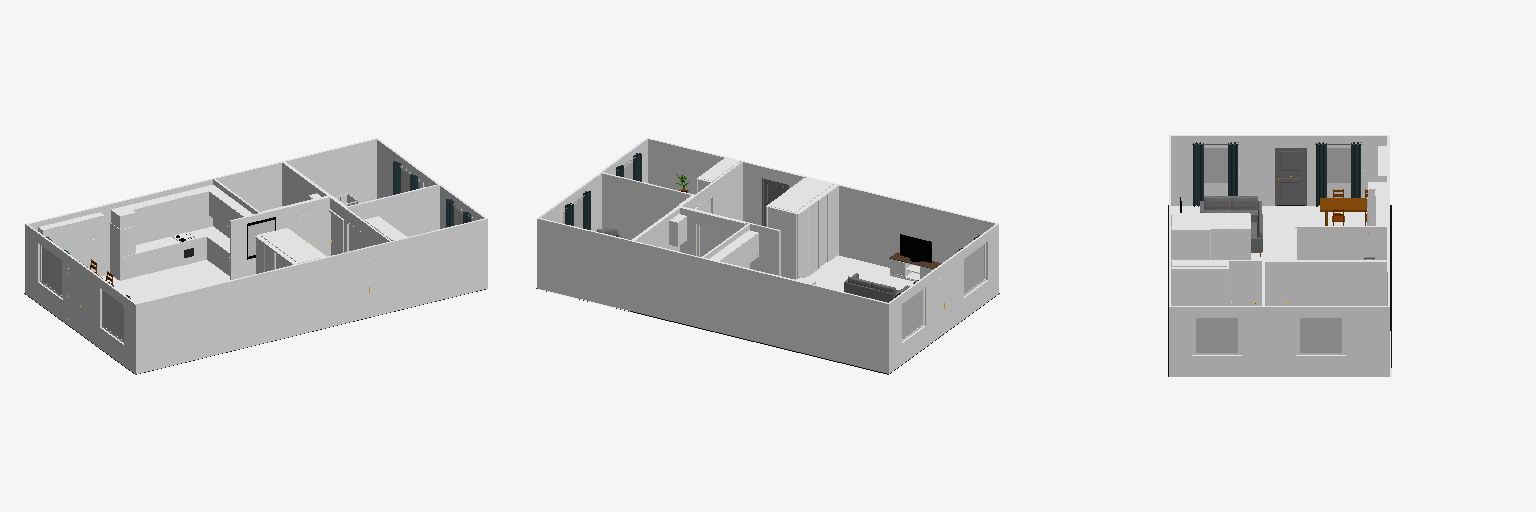
File: home.obj
3 views of the same model, side by side, from view 1: azimuth 30°, elevation 25°; view 2: azimuth 150°, elevation 25°; view 3: azimuth 270°, elevation 25° (orthographic).
Parts seen in each view (by area): view 1: wall_13_76, wall_10_58, wall_14_82, wall_6_35, wall_15_89, wall_17_100, wall_12_71, room_31_162, wall_4_23, Corps_578, wall_2_10, sweethome3d_opening_on_hinge_1_door_217 (+11 smaller); view 2: wall_15_88, wall_13_77, wall_6_34, wall_4_22, wall_14_82, wall_12_70, wall_10_59, room_31_162, wall_17_101, wall_11_64, wall_21_125, wall_19_112 (+12 smaller); view 3: wall_7_40, wall_14_83, wall_9_52, wall_1_4, wall_3_17, room_31_162, sweethome3d_opening_on_hinge_1_doorOutside_435, sweethome3d_window_pane_on_hinge_1_402, sweethome3d_window_pane_on_hinge_1_409, sweethome3d_opening_on_rail_1_door_343, sweethome3d_opening_on_rail_2_door_348, Corps_643 (+12 smaller).
Part boxes in pixels (bbox=[...]): wall_13_76: bbox=[136, 258, 325, 373]; wall_10_58: bbox=[391, 219, 487, 311]; wall_14_82: bbox=[25, 224, 135, 374]; wall_6_35: bbox=[286, 139, 376, 205]; wall_15_89: bbox=[29, 179, 212, 276]; wall_17_100: bbox=[326, 242, 390, 327]; wall_12_71: bbox=[347, 185, 438, 236]; room_31_162: bbox=[101, 260, 229, 302]; wall_4_23: bbox=[216, 163, 281, 212]; Corps_578: bbox=[135, 229, 210, 276]; wall_2_10: bbox=[261, 197, 329, 256]; sweethome3d_opening_on_hinge_1_door_217: bbox=[346, 260, 370, 322]; wall_15_88: bbox=[702, 259, 888, 373]; wall_13_77: bbox=[839, 186, 994, 267]; wall_6_34: bbox=[537, 219, 629, 310]; wall_4_22: bbox=[630, 241, 701, 327]; wall_14_82: bbox=[889, 224, 998, 373]; wall_12_70: bbox=[602, 173, 690, 239]; wall_10_59: bbox=[648, 139, 740, 194]; room_31_162: bbox=[805, 255, 913, 291]; wall_17_101: bbox=[743, 162, 805, 225]; wall_11_64: bbox=[697, 162, 742, 220]; wall_21_125: bbox=[768, 207, 795, 279]; wall_19_112: bbox=[680, 208, 744, 255]; wall_7_40: bbox=[1264, 307, 1389, 376]; wall_14_83: bbox=[1171, 136, 1386, 205]; wall_9_52: bbox=[1169, 307, 1263, 376]; wall_1_4: bbox=[1292, 262, 1386, 305]; wall_3_17: bbox=[1297, 227, 1386, 259]; room_31_162: bbox=[1171, 206, 1366, 259]; sweethome3d_opening_on_hinge_1_doorOutside_435: bbox=[1277, 149, 1304, 204]; sweethome3d_window_pane_on_hinge_1_402: bbox=[1300, 318, 1341, 352]; sweethome3d_window_pane_on_hinge_1_409: bbox=[1196, 318, 1237, 352]; sweethome3d_opening_on_rail_1_door_343: bbox=[1200, 270, 1227, 305]; sweethome3d_opening_on_rail_2_door_348: bbox=[1172, 270, 1198, 305]; Corps_643: bbox=[1172, 215, 1248, 226].
Bounding box in the file's own units: 1320 × 251 × 723.